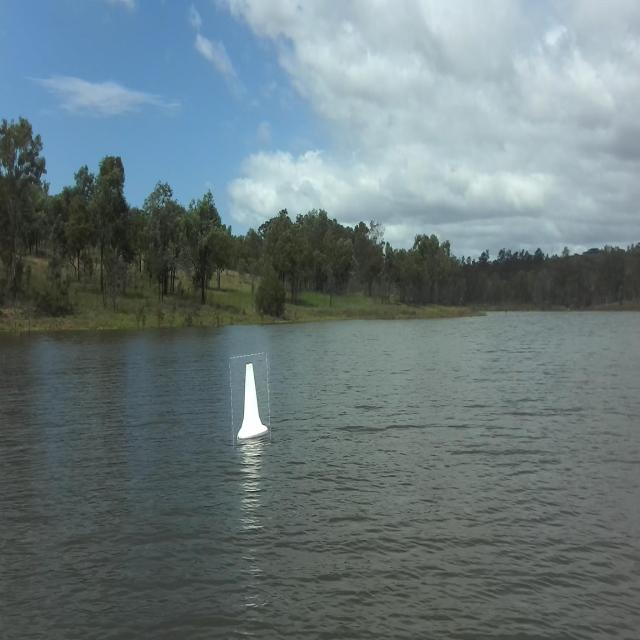White_Buoy: (230, 356, 268, 443)
